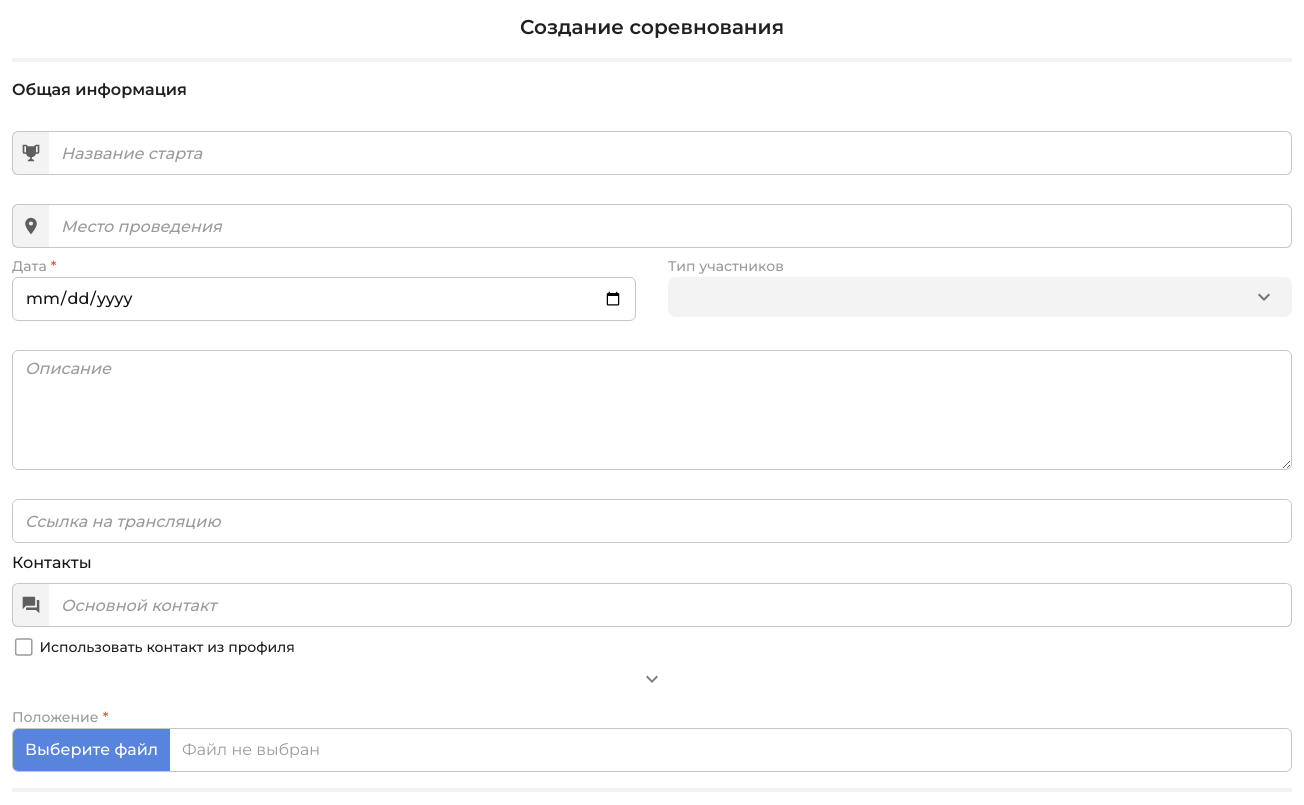
Test: CompetitionsCreate › shows additional contacts
Expected: the field labelled "Дополнительный контакт" is not shown
Click the element with test id "expand": [652, 679] box 640,667 -> 664,691
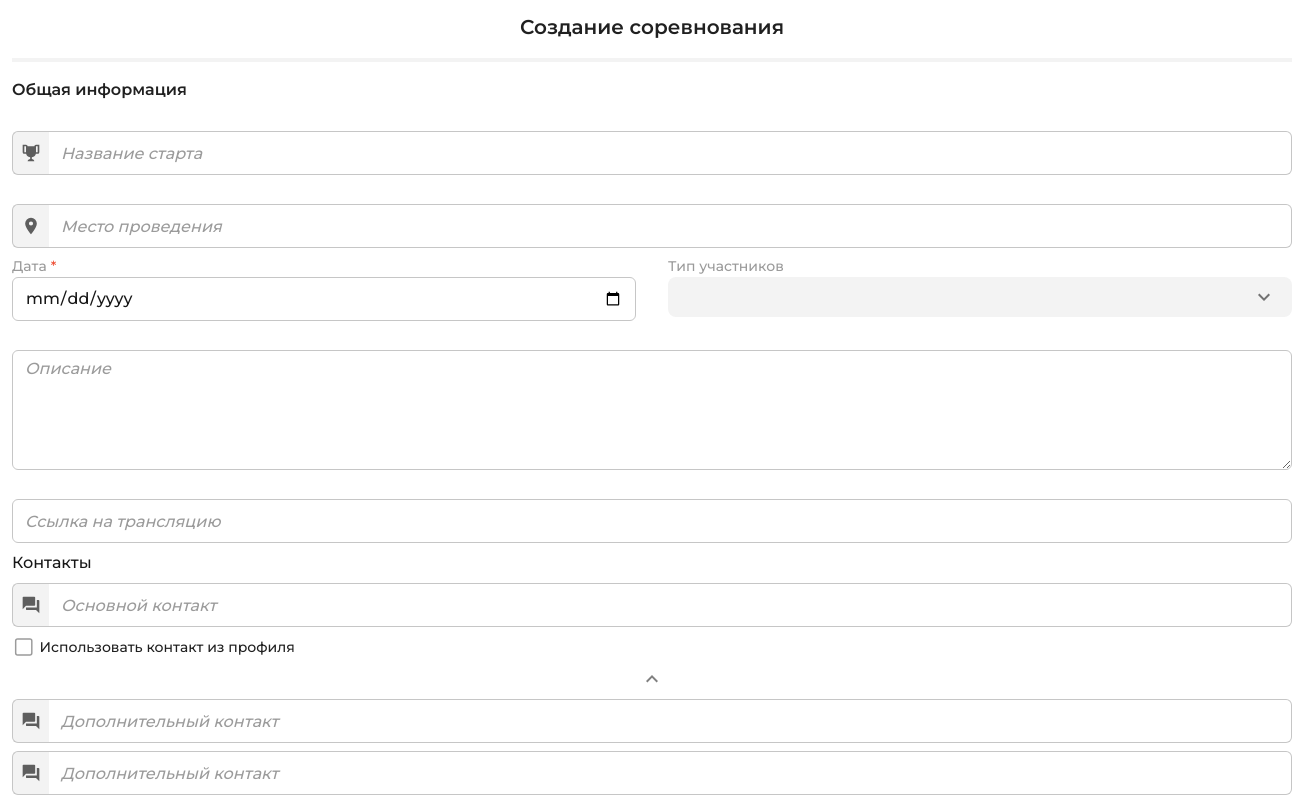
Now the number of fields with placeholder "Дополнительный контакт" is 2, box 49,699 -> 1292,743; 49,751 -> 1292,795
